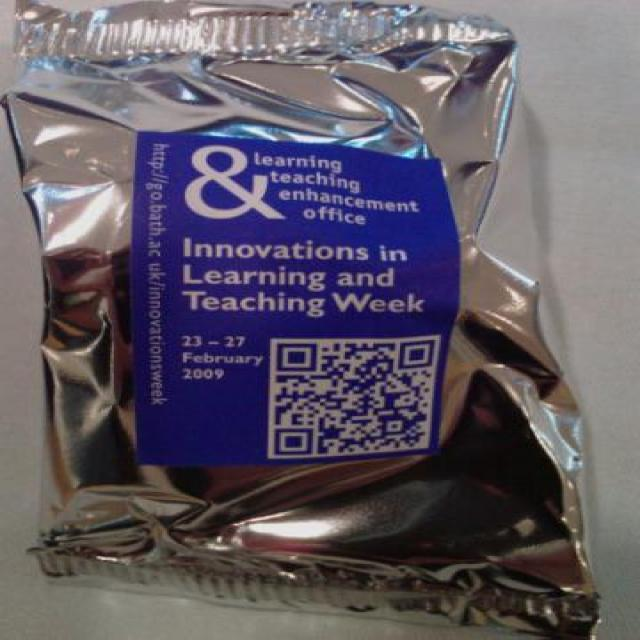qrcode: (275, 341, 433, 454)
